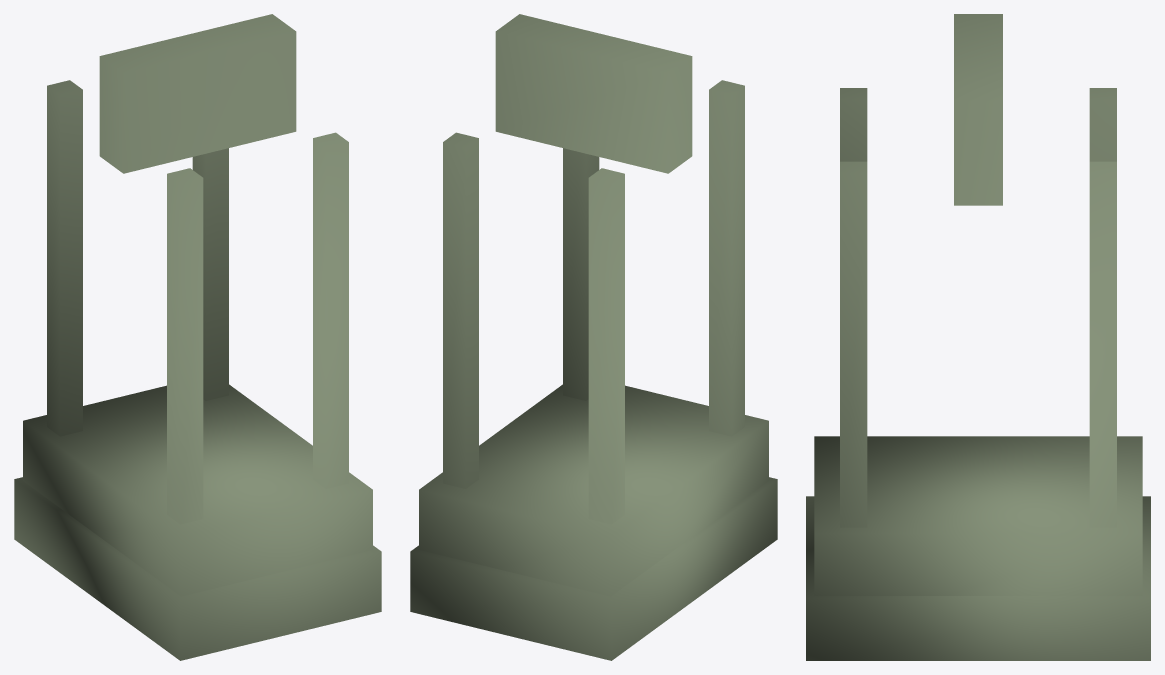
File: temple_of_chac.obj
3 views of the same model, side by side, from view 1: azimuth 30°, elevation 25°; view 2: azimuth 150°, elevation 25°; view 3: azimuth 270°, elevation 25° (orthographic). The views are drawn at different scales.
Visible parts, largest first — view 1: building; view 2: building; view 3: building.
Boxes of the visible parts, box(x1,y1,x2,y2) form: building: box(14, 14, 381, 660); building: box(410, 14, 777, 660); building: box(806, 14, 1150, 660).
Bounding box in the file's own units: 3.67 × 9.27 × 5.25.
